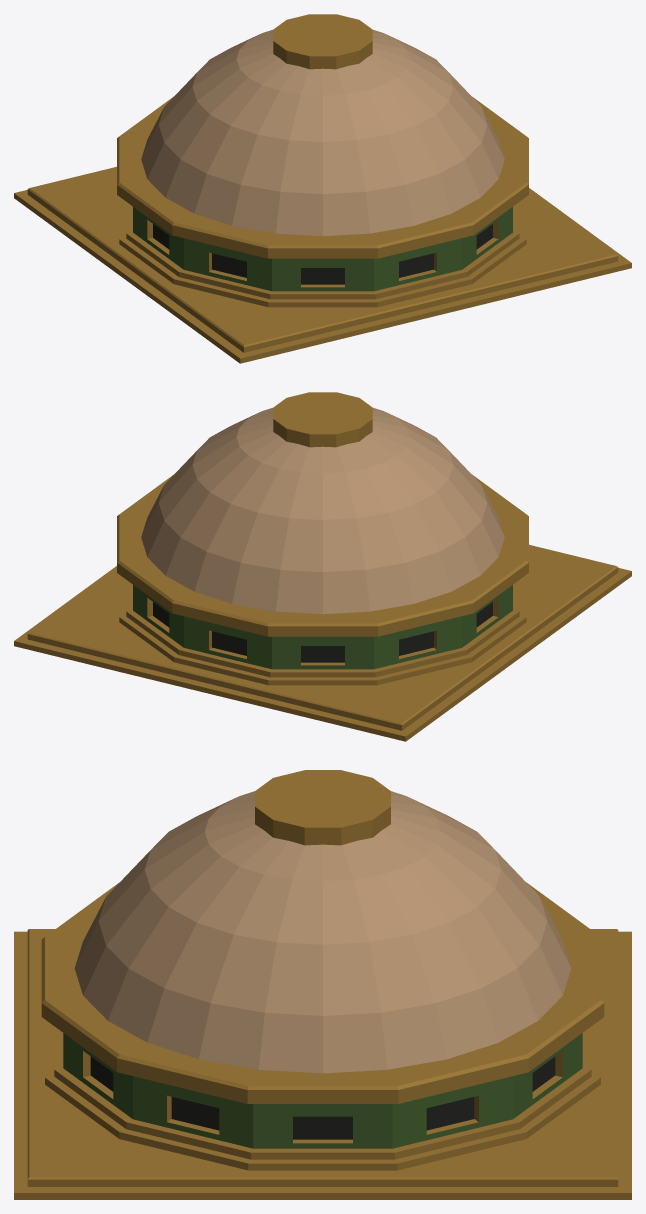
File: frescoed-ceiling-dome-bay-2c89cd.glb
The picture shows the model from 3 angles, top to bottom: view 1: azimuth 30°, elevation 25°; view 2: azimuth 150°, elevation 25°; view 3: azimuth 270°, elevation 25°; orthographic projection. The views are drawn at different scales.
Visible parts, largest first — view 1: frescoed-ceiling-dome-bay; view 2: frescoed-ceiling-dome-bay; view 3: frescoed-ceiling-dome-bay.
Part boxes in pixels (left/top/right/bottom): frescoed-ceiling-dome-bay: left=14, top=14, right=631, bottom=363; frescoed-ceiling-dome-bay: left=14, top=392, right=631, bottom=741; frescoed-ceiling-dome-bay: left=14, top=770, right=631, bottom=1199.
Bounding box in the file's own units: 4 × 1.93 × 4.
